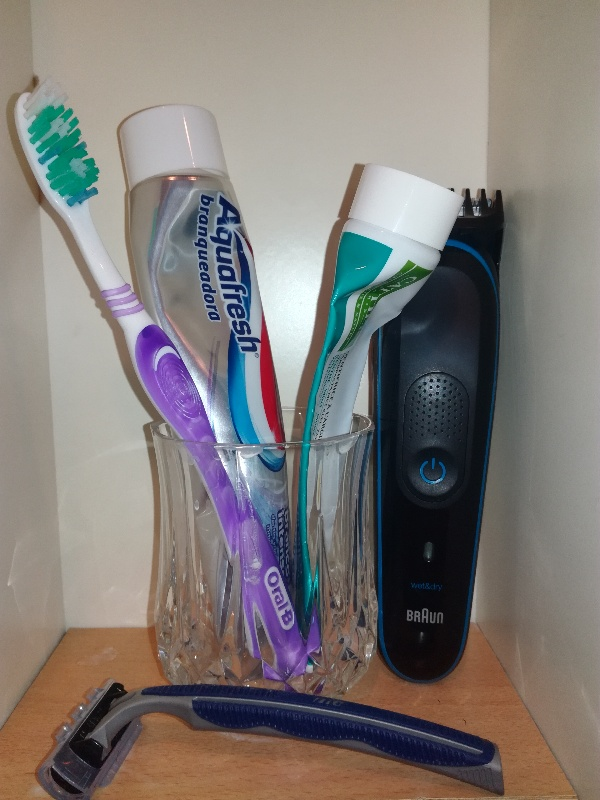beard trimmer: (368, 188, 507, 687)
gilete: (36, 676, 507, 800)
